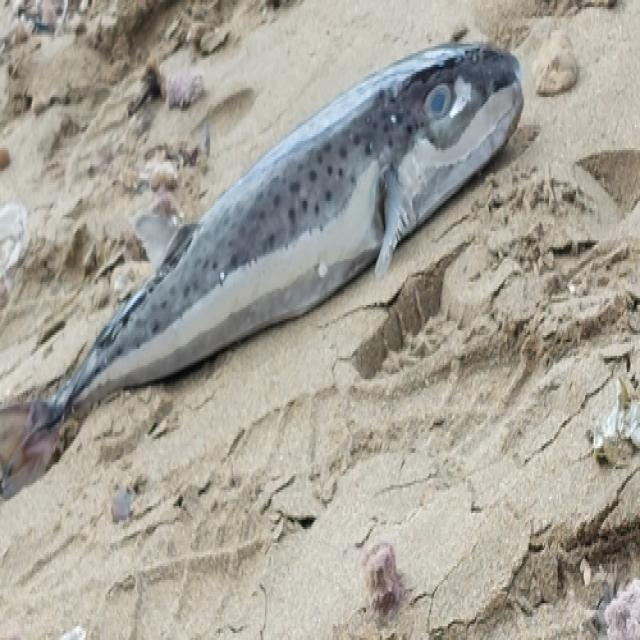Balik: (0, 44, 523, 496)
